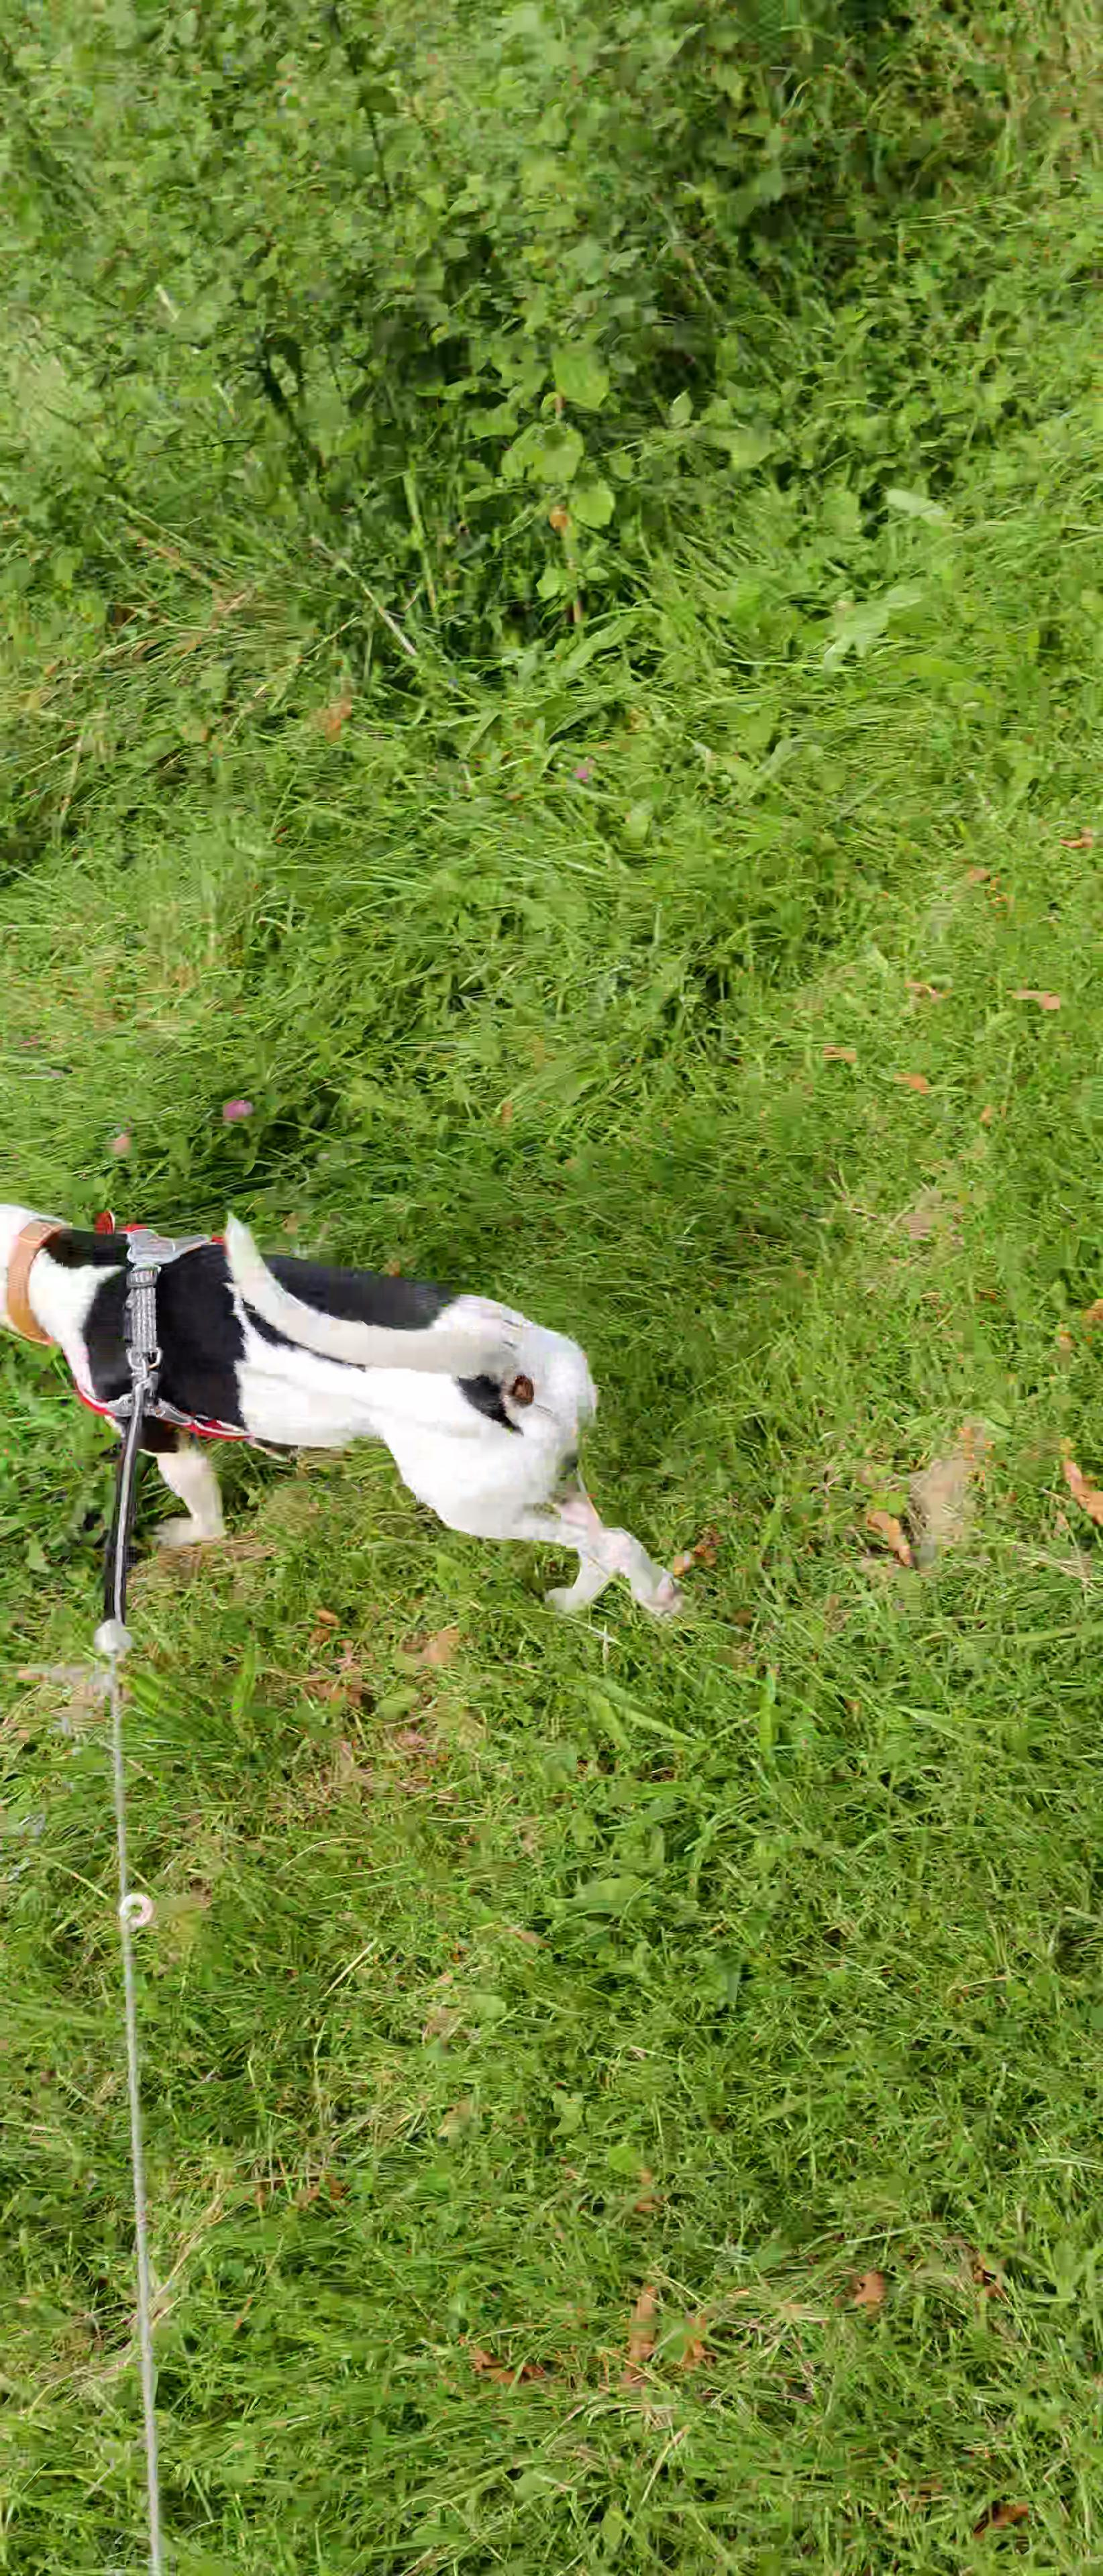Dog: (0, 1153, 736, 1654)
